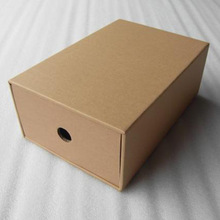Rec_Paper: (7, 19, 209, 187)
